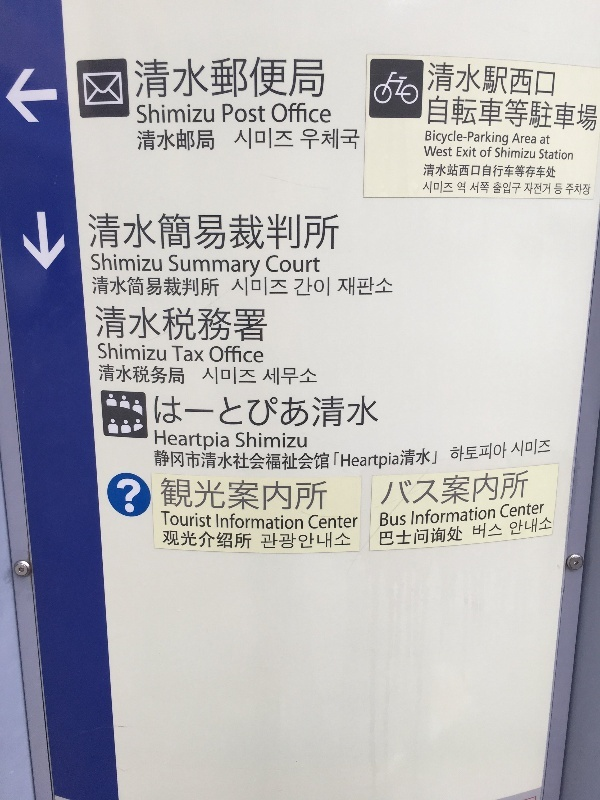text: (97, 303, 112, 350), (113, 303, 128, 350), (129, 303, 144, 350), (145, 303, 160, 350), (161, 303, 176, 350), (177, 303, 192, 350), (193, 303, 208, 350), (209, 303, 224, 350), (225, 303, 240, 350), (241, 303, 256, 350), (97, 210, 112, 253), (113, 210, 128, 253), (129, 210, 144, 253), (145, 210, 160, 253), (161, 210, 176, 253), (177, 210, 192, 253), (193, 210, 208, 253), (209, 210, 224, 253), (225, 210, 240, 253), (241, 210, 256, 253), (257, 210, 272, 253), (273, 210, 288, 253), (289, 210, 304, 253), (305, 210, 320, 253), (321, 210, 336, 253), (145, 58, 160, 100), (161, 58, 176, 100), (177, 58, 192, 100), (193, 58, 208, 100), (209, 58, 224, 100), (225, 58, 240, 100), (241, 58, 256, 100), (257, 58, 272, 100), (273, 58, 288, 100), (289, 58, 304, 100), (305, 58, 320, 100), (433, 93, 448, 135), (449, 93, 464, 135), (465, 93, 480, 135), (481, 93, 496, 135), (497, 93, 512, 135), (513, 93, 528, 135), (529, 93, 544, 135), (545, 93, 560, 135), (561, 93, 576, 135), (577, 93, 592, 135), (161, 394, 176, 434), (177, 394, 192, 434), (193, 394, 208, 434), (209, 394, 224, 434), (225, 394, 240, 434), (241, 394, 256, 434), (257, 394, 272, 434), (273, 394, 288, 434), (289, 394, 304, 434), (305, 394, 320, 434), (321, 394, 336, 434), (337, 394, 352, 434), (353, 394, 368, 434), (433, 61, 448, 100), (449, 61, 464, 100), (465, 61, 480, 100), (481, 61, 496, 100), (497, 61, 512, 100), (513, 61, 528, 100), (529, 61, 544, 100), (401, 469, 416, 508), (417, 469, 432, 508), (433, 469, 448, 508), (449, 469, 464, 508), (465, 469, 480, 508), (481, 469, 496, 508), (497, 469, 512, 508), (513, 469, 528, 508), (177, 477, 192, 512), (193, 477, 208, 512), (209, 477, 224, 512), (225, 477, 240, 512), (241, 477, 256, 512), (257, 477, 272, 512), (273, 477, 288, 512), (289, 477, 304, 512), (305, 477, 320, 512), (545, 61, 558, 100), (162, 477, 176, 512), (257, 303, 267, 350), (134, 58, 144, 100), (305, 126, 320, 153), (321, 126, 336, 153), (337, 126, 352, 153), (97, 275, 112, 302), (113, 275, 128, 302), (129, 275, 144, 302), (145, 275, 160, 302), (161, 275, 176, 302), (177, 275, 192, 302), (193, 275, 208, 302), (369, 394, 379, 434), (113, 362, 128, 388), (129, 362, 144, 388), (145, 362, 160, 388), (161, 362, 176, 388), (273, 102, 288, 127), (289, 102, 304, 127), (305, 102, 320, 127), (177, 254, 192, 279), (193, 254, 208, 279), (209, 254, 224, 279), (225, 254, 240, 279), (241, 254, 256, 279), (305, 253, 321, 276), (145, 129, 160, 153), (161, 129, 176, 153), (177, 129, 192, 153), (193, 129, 208, 153), (241, 127, 256, 151), (257, 127, 272, 151), (273, 127, 288, 151), (513, 435, 528, 459), (529, 435, 544, 459), (465, 441, 480, 465), (481, 441, 496, 465), (273, 277, 289, 299), (145, 103, 160, 126), (161, 103, 176, 126), (177, 103, 192, 126), (193, 103, 208, 126), (273, 253, 288, 276), (289, 253, 304, 276), (305, 276, 320, 299), (353, 276, 368, 299), (369, 276, 384, 299), (450, 441, 464, 465), (225, 103, 240, 125), (241, 103, 256, 125), (177, 530, 192, 552), (193, 530, 208, 552), (209, 530, 224, 552), (225, 530, 240, 552), (161, 449, 176, 471), (177, 449, 192, 471), (193, 449, 208, 471), (209, 449, 224, 471), (225, 449, 240, 471), (241, 449, 256, 471), (257, 449, 272, 471), (273, 449, 288, 471), (289, 449, 304, 471), (305, 449, 320, 471), (241, 277, 256, 299), (257, 277, 272, 299), (385, 526, 400, 547), (401, 526, 416, 547), (417, 526, 432, 547), (433, 526, 448, 547), (97, 253, 112, 274), (113, 253, 128, 274), (129, 253, 144, 274), (145, 253, 160, 274), (241, 430, 256, 451), (257, 430, 272, 451), (273, 430, 288, 451), (289, 430, 304, 451), (273, 367, 288, 388), (289, 367, 304, 388), (392, 469, 400, 508), (100, 362, 112, 388), (162, 530, 176, 552), (481, 507, 497, 526), (89, 210, 96, 253), (177, 344, 192, 364), (209, 345, 224, 365), (225, 345, 240, 365), (241, 345, 256, 365), (161, 430, 176, 450), (177, 430, 192, 450), (193, 430, 208, 450), (209, 430, 224, 450), (433, 128, 448, 148), (449, 128, 464, 148), (465, 128, 480, 148), (481, 128, 496, 148), (353, 449, 368, 469), (369, 449, 384, 469), (385, 449, 400, 469), (401, 449, 416, 469), (339, 276, 352, 299), (449, 526, 463, 547), (305, 367, 319, 388), (529, 502, 545, 520), (241, 368, 257, 386), (161, 510, 176, 529), (177, 510, 192, 529), (193, 510, 208, 529), (225, 513, 240, 532), (241, 513, 256, 532), (257, 513, 272, 532), (273, 513, 288, 532), (289, 513, 304, 532), (417, 507, 432, 526), (433, 507, 448, 526), (449, 507, 464, 526), (465, 507, 480, 526), (273, 532, 288, 551), (289, 532, 304, 551), (305, 532, 320, 551), (321, 532, 336, 551), (321, 477, 329, 512), (321, 102, 332, 127), (113, 344, 128, 362), (129, 344, 144, 362), (145, 344, 160, 362), (321, 513, 336, 531), (337, 513, 352, 531), (513, 502, 528, 520), (209, 368, 224, 386), (225, 368, 240, 386), (513, 518, 528, 536), (529, 518, 544, 536), (337, 532, 351, 551), (241, 530, 253, 552), (497, 441, 508, 465), (497, 128, 510, 148), (417, 449, 430, 469), (481, 522, 496, 539), (593, 93, 599, 135), (98, 344, 112, 362), (209, 275, 218, 302), (154, 394, 160, 434), (433, 164, 448, 180), (449, 164, 464, 180), (465, 164, 480, 180), (481, 164, 496, 180), (497, 164, 512, 180), (513, 164, 528, 180), (529, 164, 544, 180), (193, 344, 205, 364), (385, 512, 400, 528), (321, 276, 331, 299), (385, 276, 395, 299), (497, 146, 512, 161), (513, 146, 528, 161), (497, 181, 512, 196), (529, 181, 544, 196), (321, 449, 331, 471), (353, 126, 361, 153), (308, 513, 320, 531), (433, 145, 448, 159), (545, 148, 560, 162), (261, 532, 272, 551), (177, 362, 185, 388), (295, 276, 304, 299), (342, 449, 352, 469), (257, 103, 266, 125), (577, 183, 591, 197), (433, 181, 448, 194), (545, 164, 557, 180), (514, 133, 528, 146), (561, 148, 574, 162), (502, 502, 512, 520), (215, 513, 224, 532), (465, 146, 478, 159), (321, 58, 325, 100), (137, 129, 144, 153), (545, 435, 552, 459), (137, 103, 144, 126), (481, 146, 493, 159), (233, 277, 240, 299), (170, 254, 176, 279), (265, 367, 272, 388), (209, 129, 215, 153), (234, 127, 240, 151), (257, 345, 264, 365), (425, 128, 432, 148), (209, 103, 215, 126), (266, 253, 272, 276), (513, 181, 522, 196), (154, 449, 160, 471), (90, 253, 96, 274), (161, 344, 168, 362), (567, 183, 576, 197), (545, 518, 552, 536), (289, 127, 294, 151), (154, 430, 160, 450), (225, 430, 231, 450), (473, 522, 480, 539), (429, 61, 432, 100), (471, 181, 480, 194), (425, 164, 432, 180), (300, 126, 304, 153), (92, 275, 96, 302), (379, 526, 384, 547), (235, 430, 240, 451), (529, 146, 536, 161), (529, 133, 537, 146), (424, 181, 432, 194), (481, 181, 489, 194), (497, 522, 503, 539), (257, 254, 261, 279), (425, 145, 432, 159), (457, 181, 464, 195), (401, 512, 407, 528), (457, 146, 464, 159), (353, 513, 358, 531), (545, 181, 551, 196), (337, 210, 339, 253), (430, 93, 432, 135), (305, 430, 309, 451), (172, 344, 176, 364), (379, 512, 384, 528), (529, 469, 531, 508), (412, 507, 416, 526), (204, 368, 208, 386), (449, 181, 454, 194), (555, 183, 560, 196), (524, 181, 528, 196), (209, 510, 212, 529), (449, 145, 453, 159), (540, 148, 544, 162), (545, 135, 550, 146), (509, 518, 512, 536), (222, 103, 224, 125), (540, 135, 544, 146), (161, 253, 163, 274), (494, 181, 496, 196), (465, 181, 467, 195), (561, 183, 563, 196), (271, 102, 272, 127), (305, 513, 306, 532)
